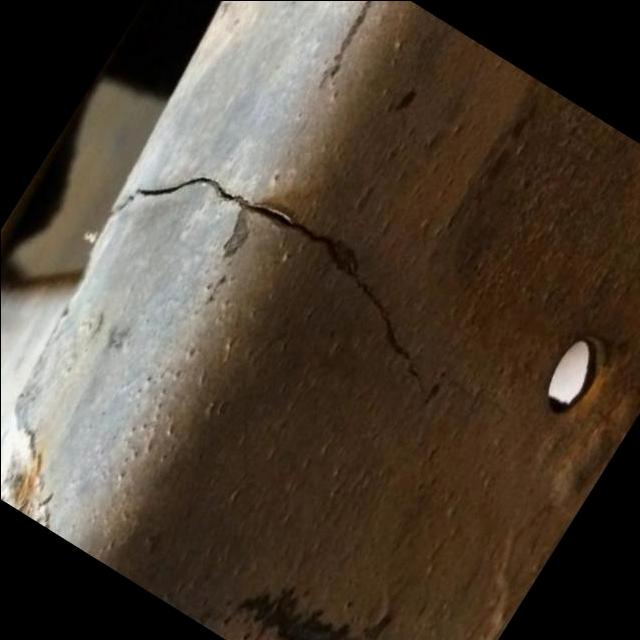defect: (109, 170, 427, 398), (18, 417, 56, 529)
